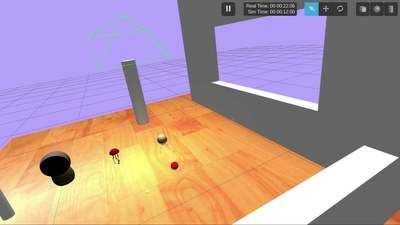mira_robot: (157, 134, 167, 145)
